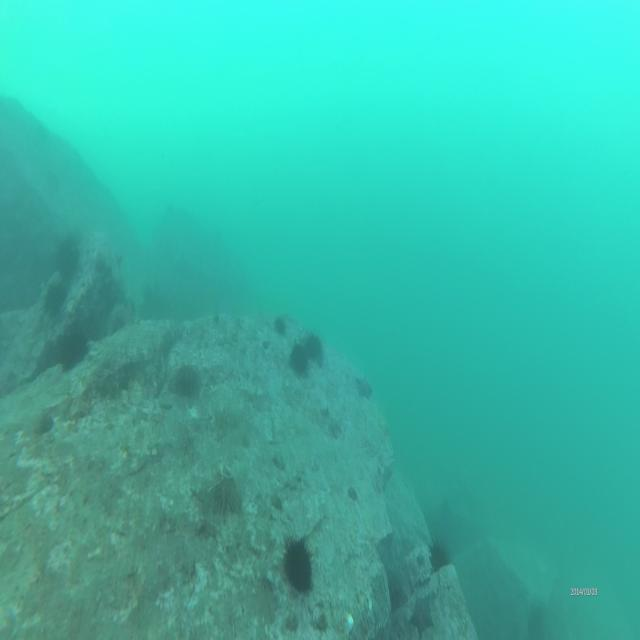echinus: (276, 528, 318, 600), (58, 328, 91, 372), (173, 358, 200, 407), (303, 321, 325, 369), (286, 338, 311, 380), (42, 278, 68, 318), (428, 536, 453, 577), (54, 234, 80, 270)
